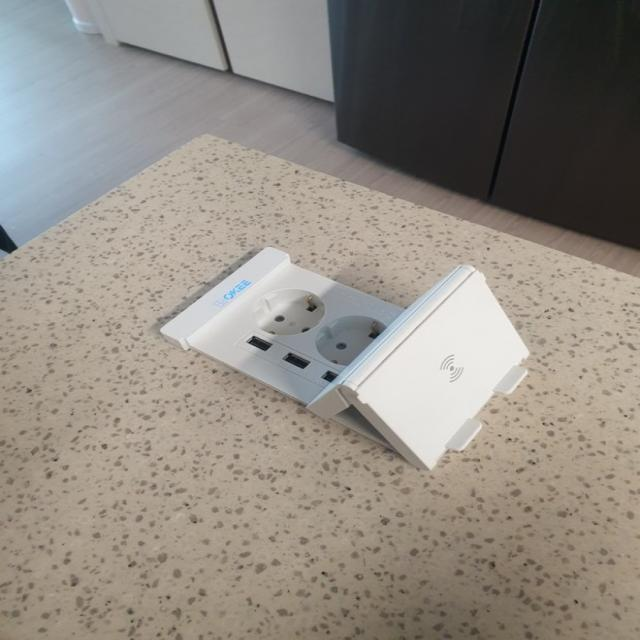typeb: (146, 225, 416, 418)
